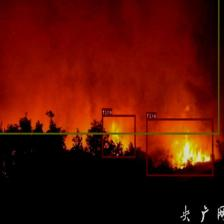fire: (146, 118, 213, 176), (102, 114, 135, 158)
smoke: (0, 0, 219, 134)
